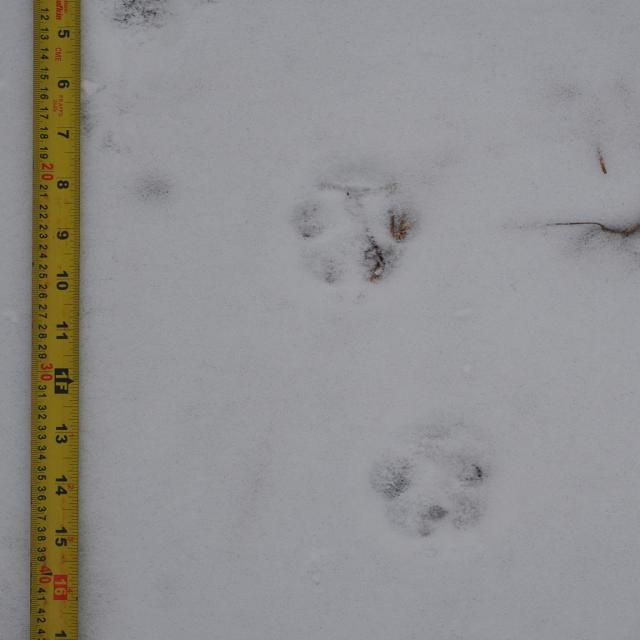canid: (290, 166, 422, 288), (368, 424, 494, 535)
